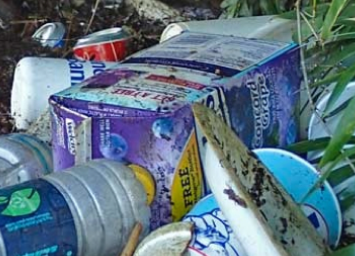garbage: (1, 1, 351, 256)
